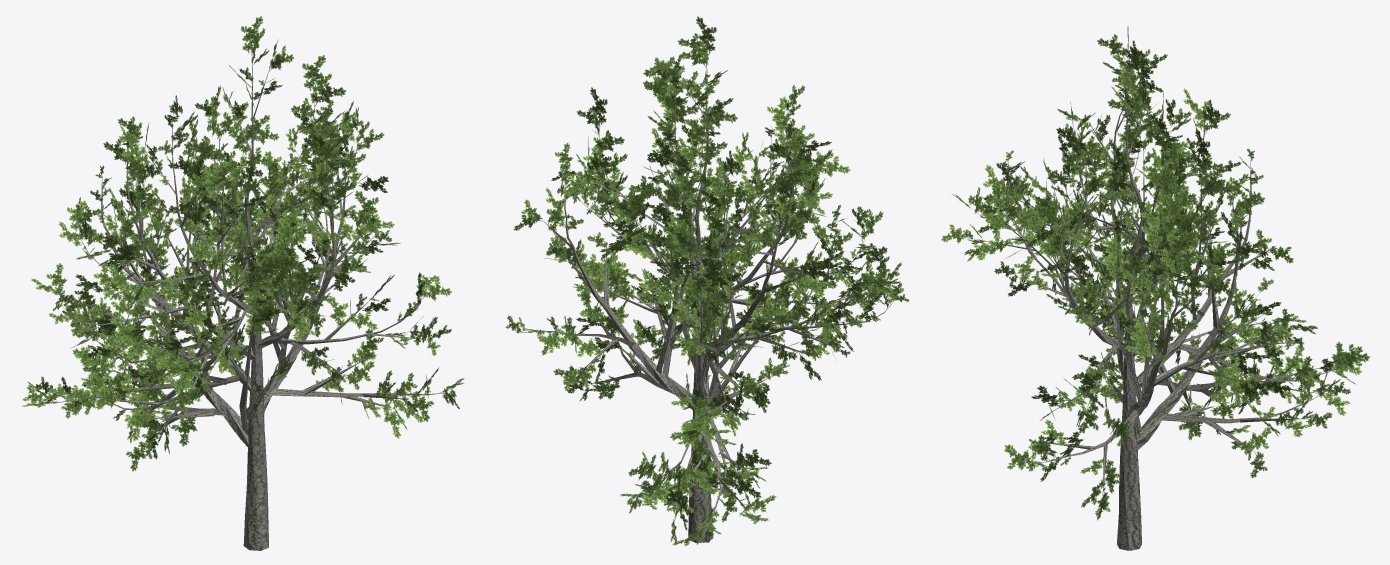
Rendered from tree.glb.
The picture shows the model from 3 angles, left to right: view 1: azimuth 30°, elevation 25°; view 2: azimuth 150°, elevation 25°; view 3: azimuth 270°, elevation 25°; orthographic projection.
Parts seen in each view (by area): view 1: tree_LOD; view 2: tree_LOD; view 3: tree_LOD.
Boxes of the visible parts, x1=… form: tree_LOD: x1=22, y1=16, x2=464, y2=550; tree_LOD: x1=506, y1=16, x2=909, y2=546; tree_LOD: x1=941, y1=26, x2=1369, y2=550.
Bounding box in the file's own units: 7.63 × 10 × 7.59.
Materials: 2 (2 with a texture image).
